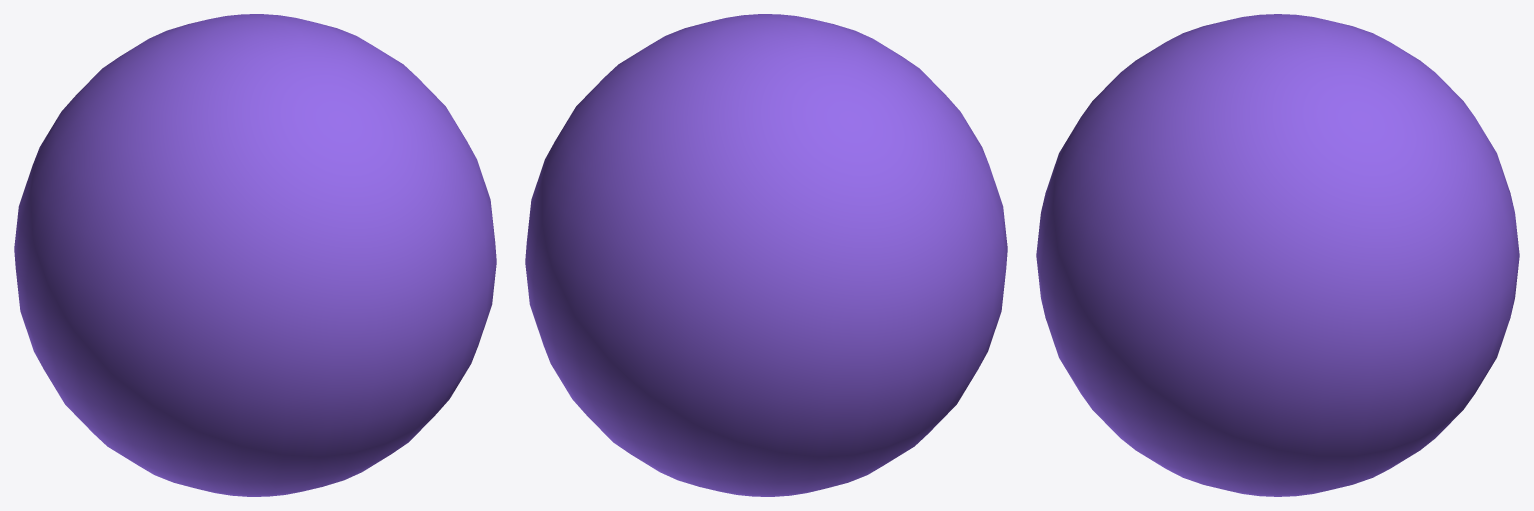
3 renders of one model, left to right at view 1: azimuth 30°, elevation 25°; view 2: azimuth 150°, elevation 25°; view 3: azimuth 270°, elevation 25°, orthographic.
Visible parts, largest first — view 1: outerSphere; view 2: outerSphere; view 3: outerSphere.
Part boxes in pixels (<box>): outerSphere: <box>14,14,496,496</box>; outerSphere: <box>525,14,1007,496</box>; outerSphere: <box>1036,14,1519,496</box>.
Size of the model in its own units: 8.62 by 8.62 by 8.62.
